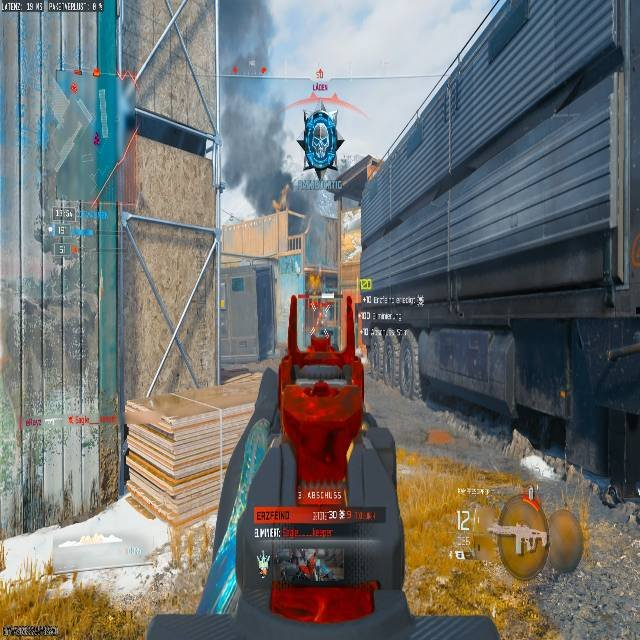player: (124, 341, 601, 635), (296, 109, 343, 174), (305, 301, 337, 354), (313, 315, 333, 347)
